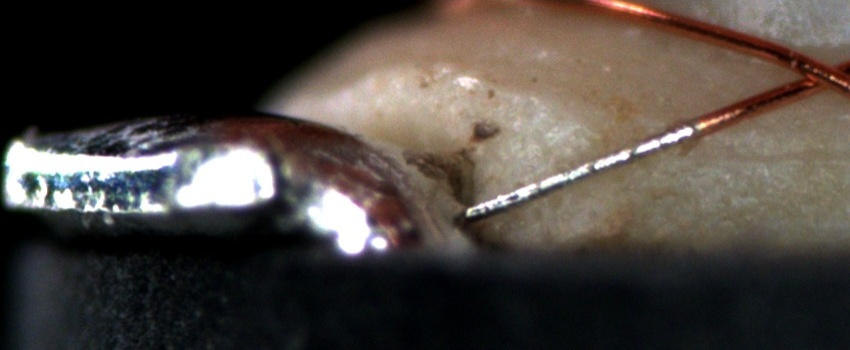CL: (777, 47, 846, 98)
DL: (720, 125, 850, 188)
TS: (460, 121, 700, 220)
